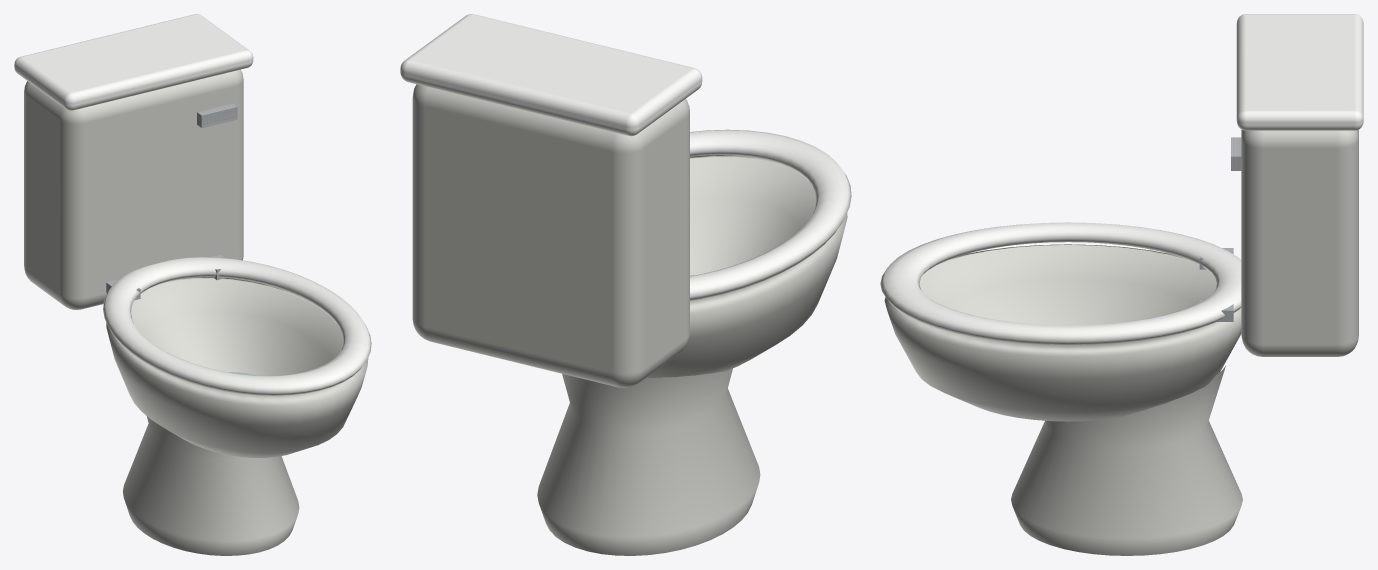
The model's file is cubicle-toilet.glb.
3 views of the same model, side by side, from view 1: azimuth 30°, elevation 25°; view 2: azimuth 150°, elevation 25°; view 3: azimuth 270°, elevation 25° (orthographic). The views are drawn at different scales.
Parts seen in each view (by area): view 1: CubicleToilet; view 2: CubicleToilet; view 3: CubicleToilet.
Part boxes in pixels (left/top/right/bottom): CubicleToilet: left=14, top=14, right=371, bottom=555; CubicleToilet: left=400, top=14, right=851, bottom=555; CubicleToilet: left=880, top=14, right=1363, bottom=555.
Bounding box in the file's own units: 0.44 × 0.8145 × 0.7811.
4 materials, 1 textured.
